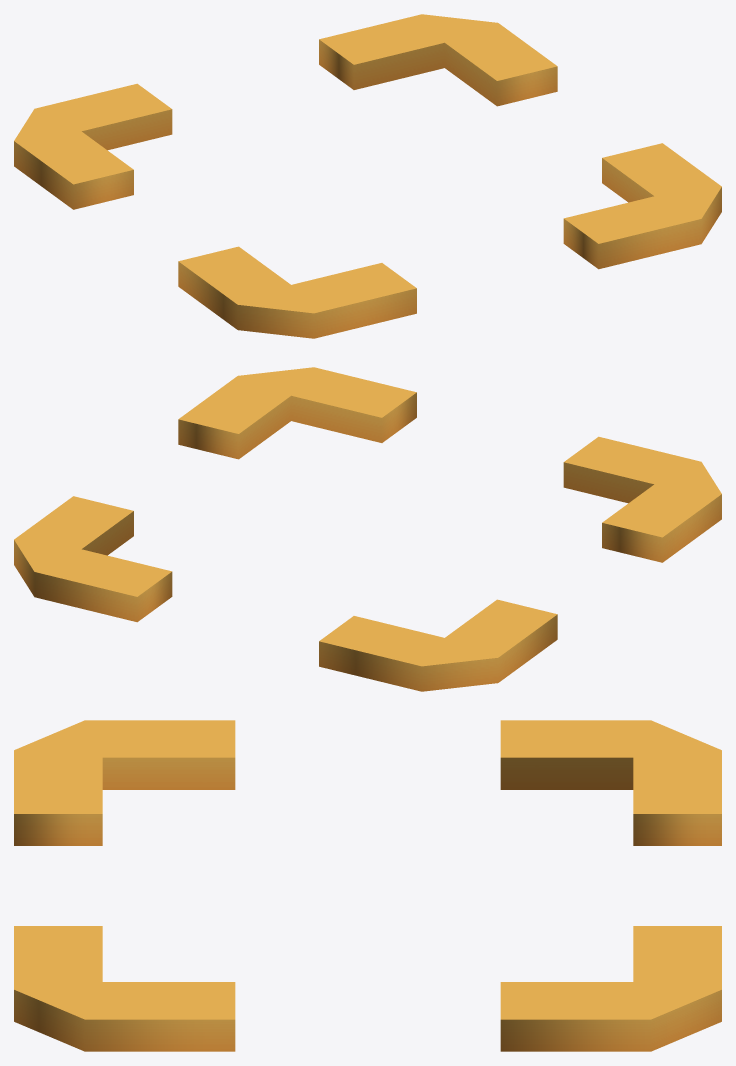
The model's file is selection-a.fbx.
3 views of the same model, one above another, from view 1: azimuth 30°, elevation 25°; view 2: azimuth 150°, elevation 25°; view 3: azimuth 270°, elevation 25° (orthographic). The views are drawn at different scales.
Visible parts, largest first — view 1: selection-a; view 2: selection-a; view 3: selection-a.
Part boxes in pixels (x1=…): selection-a: x1=14, y1=14, x2=721, y2=338; selection-a: x1=14, y1=367, x2=721, y2=691; selection-a: x1=14, y1=720, x2=721, y2=1051.
Size of the model in its own units: 100 by 5 by 100.
